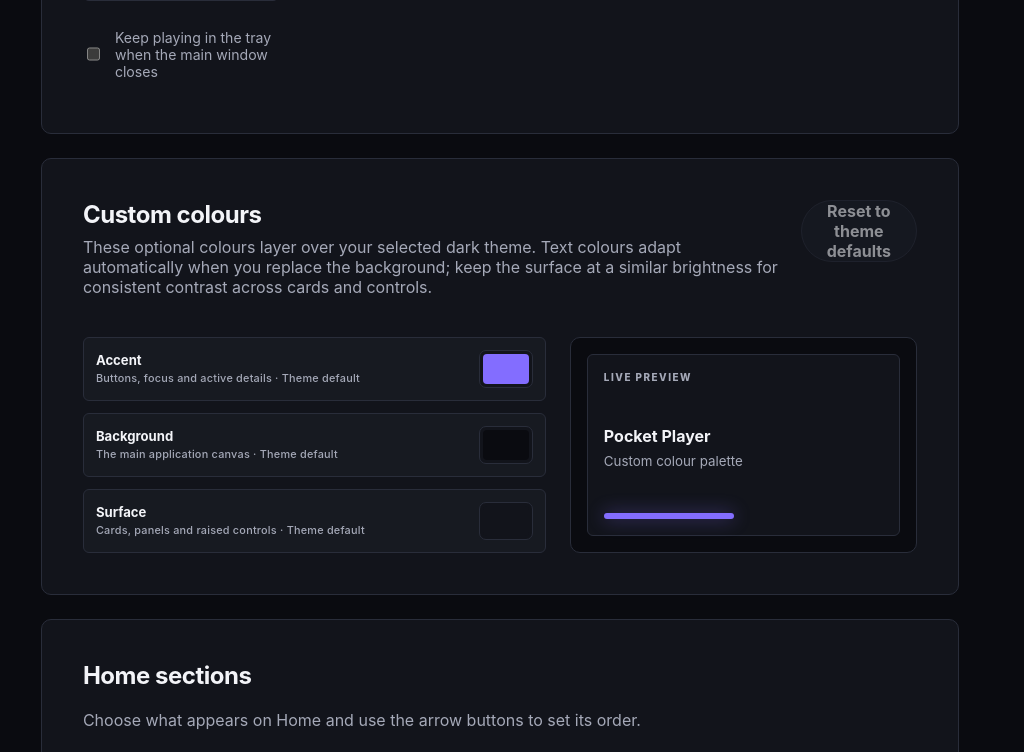
Test: layers custom colours over the selected theme and resets them together
The width and height of the screenshot is (1024, 752).
(page scrolled)
Expected: the text "layer over your selected dark theme" is shown, top-left (83, 237), bottom-right (785, 297)
Expected: the picture named "Theme colour preview" is shown, top-left (570, 337), bottom-right (917, 553)
In the colour field named "Accent colour": point(506, 369) top-left (479, 350), bottom-right (533, 388), type "#ff3366"
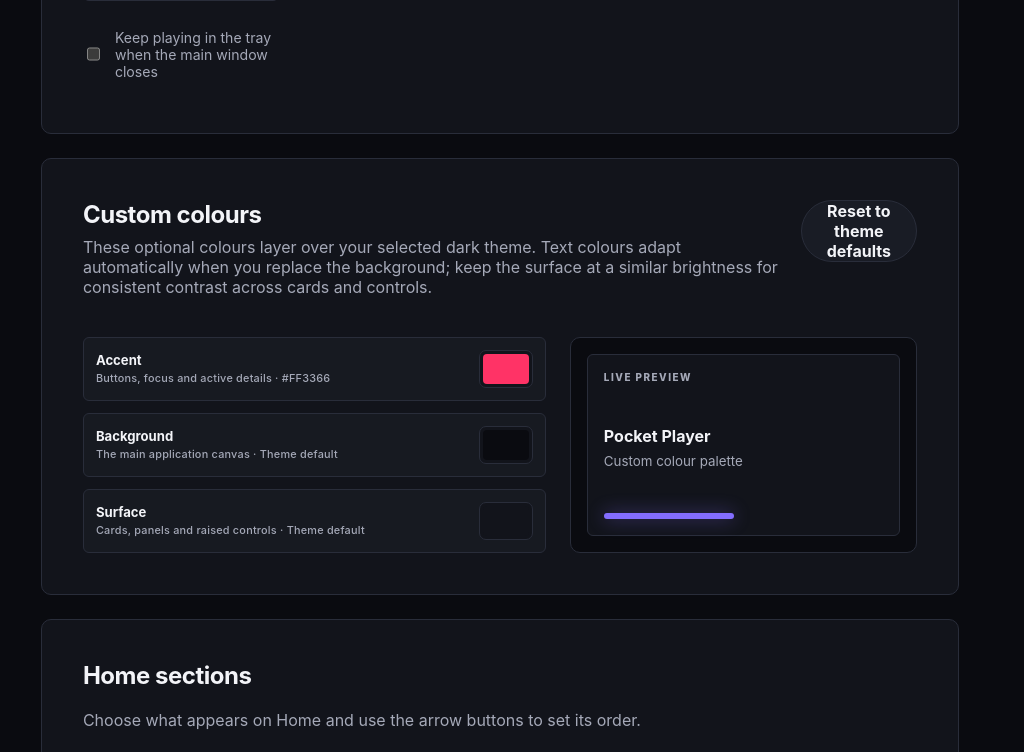
Now the button "Reset to theme defaults" is enabled
Click the button "Reset to theme defaults": point(859, 231) top-left (801, 200), bottom-right (917, 262)
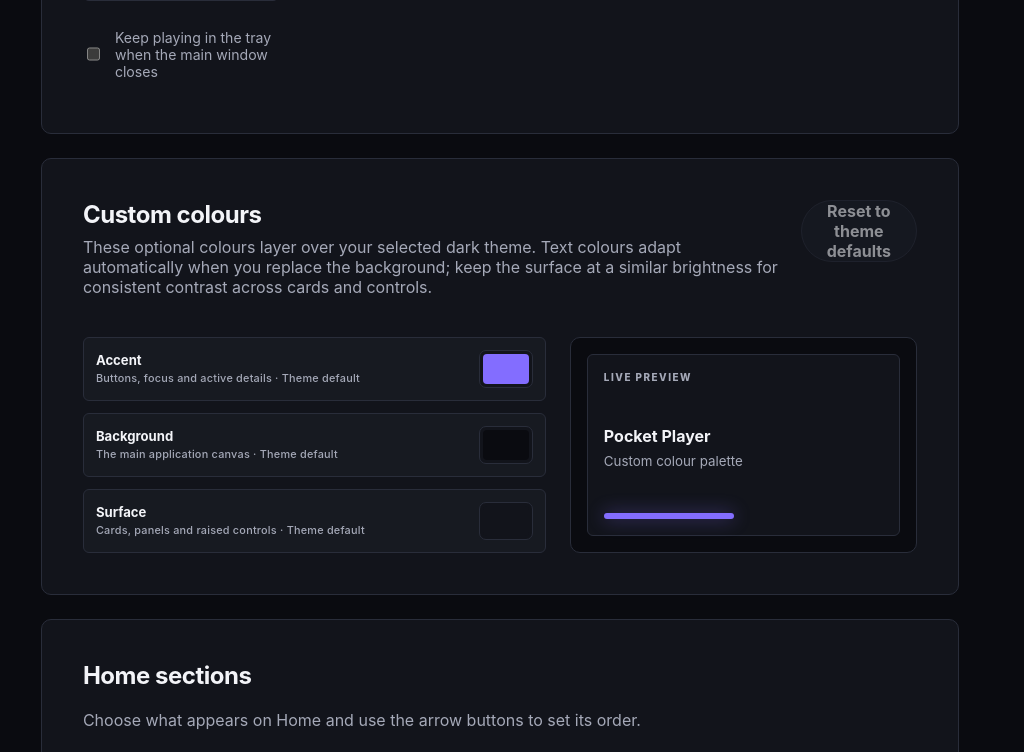
Now the button "Reset to theme defaults" is disabled, box top-left (801, 200), bottom-right (917, 262)
